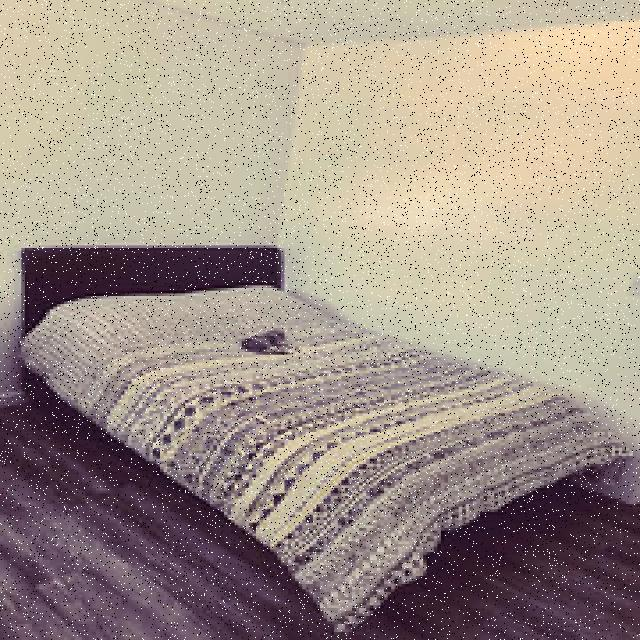bed: (6, 238, 640, 582)
